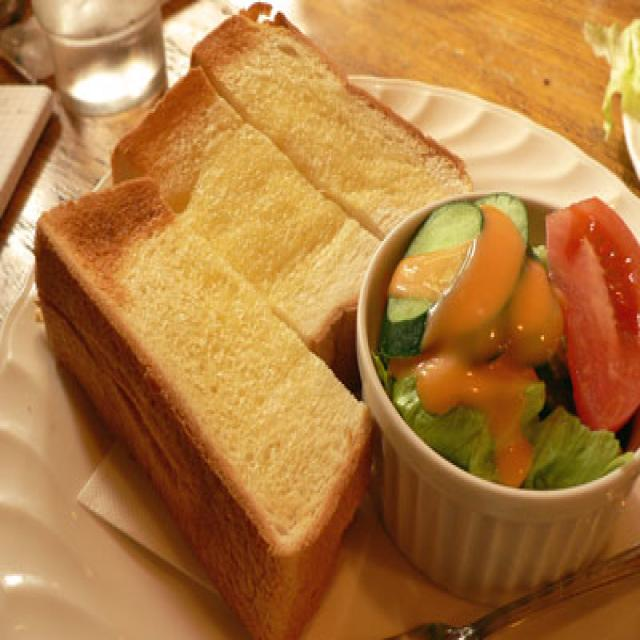面包点心: (26, 13, 456, 631)
